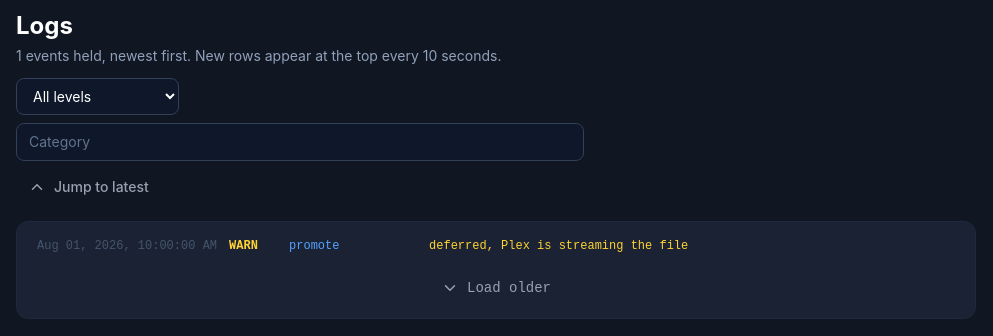
Test: Logs › loads older rows below the list with before_id set to the oldest id held
Expected: the text "deferred, Plex is streaming the file" is shown, [429, 238, 688, 254]
Click the button "Load older".
click(496, 288)  # box [429, 270, 563, 306]
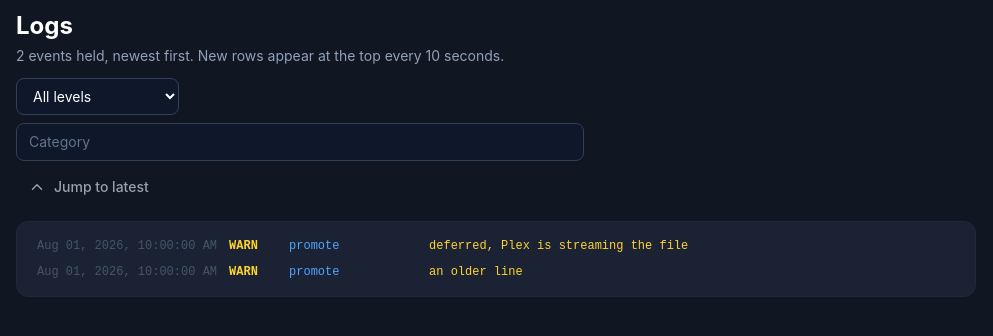
Result: the text "an older line" is shown at [429, 264, 523, 280]
Result: the list item "Aug 01, 2026, 10:00:00 AM warn promote an older line" is shown at [37, 265, 523, 279]
Result: the button "Load older" is gone
